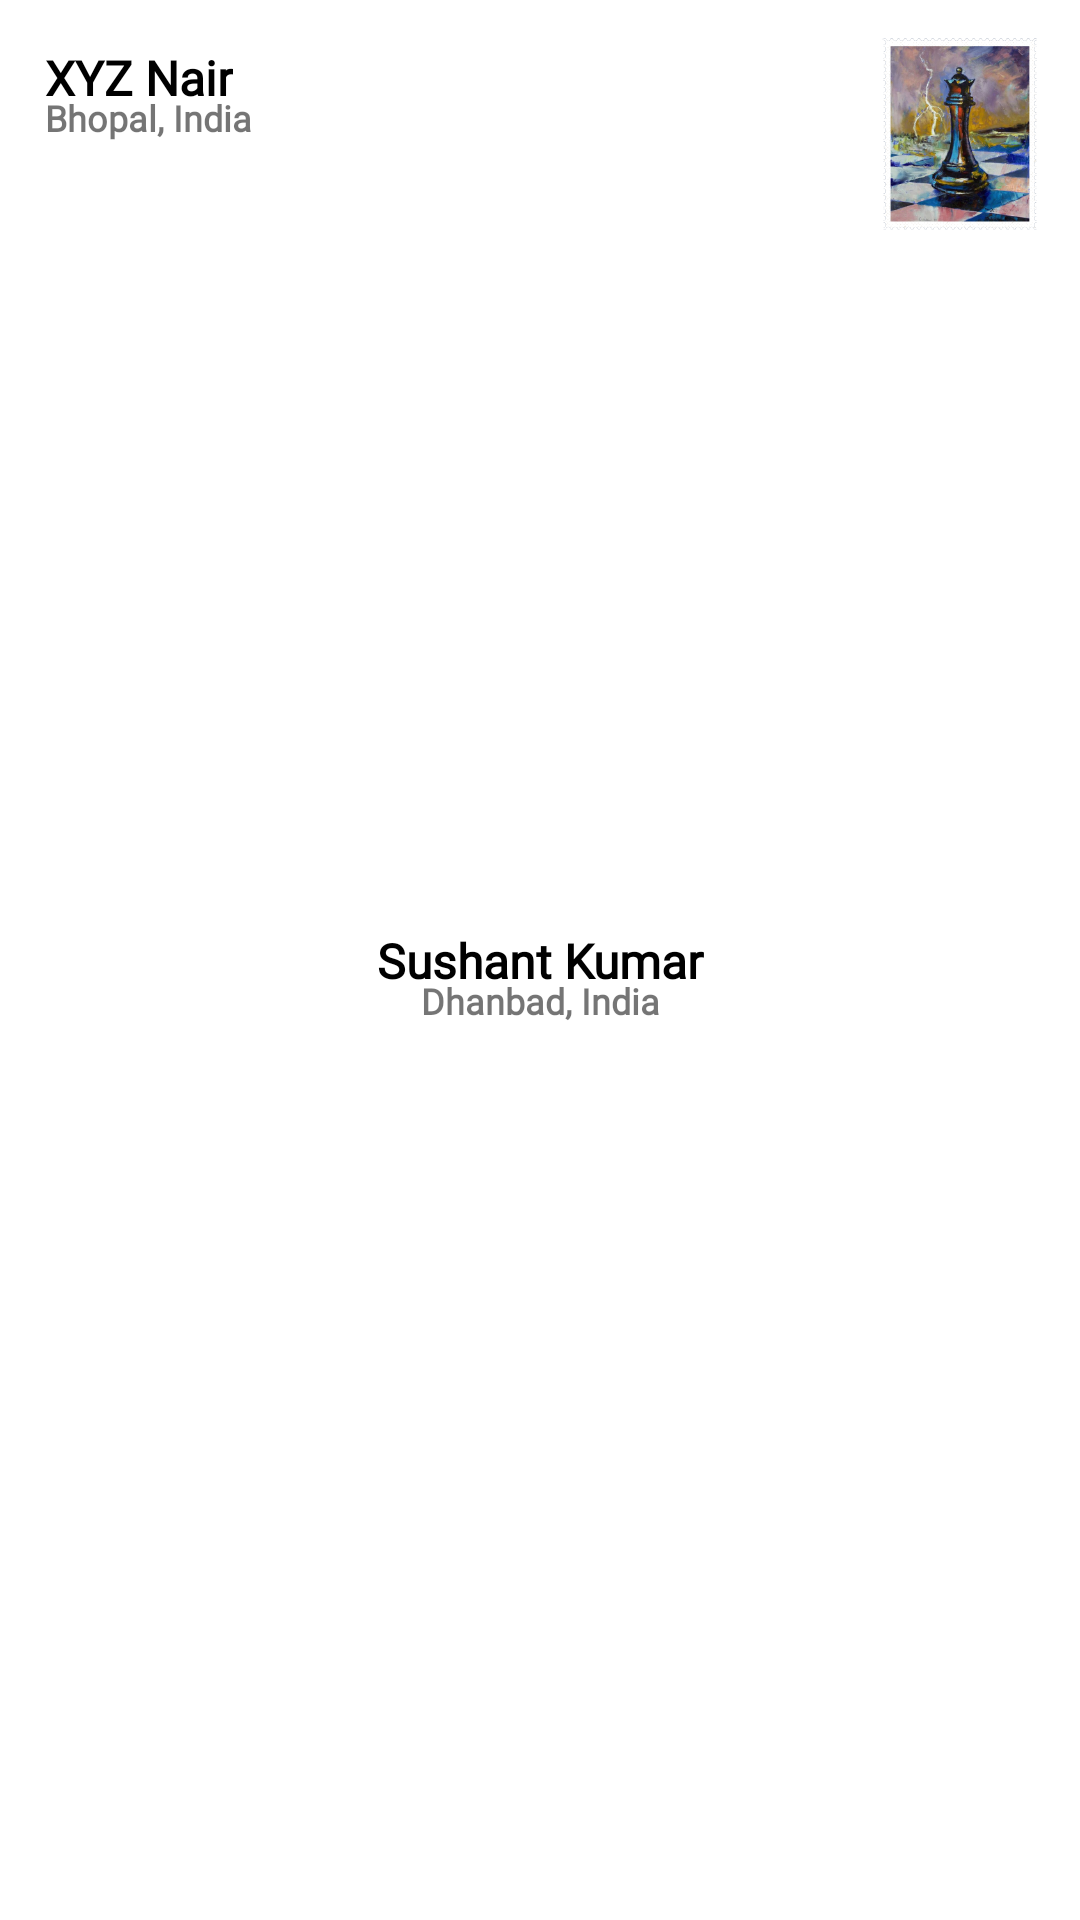

Icons on this 1080px×1920px Android screen, each with its box as (x1, y1, x2, y2):
stamp chess: (884, 38, 1036, 229)
